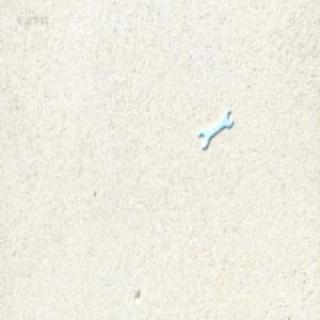Wrenchtrack_idkeyframe: (198, 110, 230, 148)
